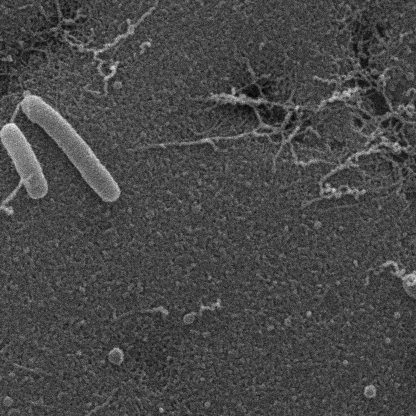cell2cell: (10, 96, 21, 127)
cell2surface: (0, 174, 39, 240)
filament: (404, 271, 416, 351)
regular: (21, 96, 121, 202), (0, 123, 45, 198)
